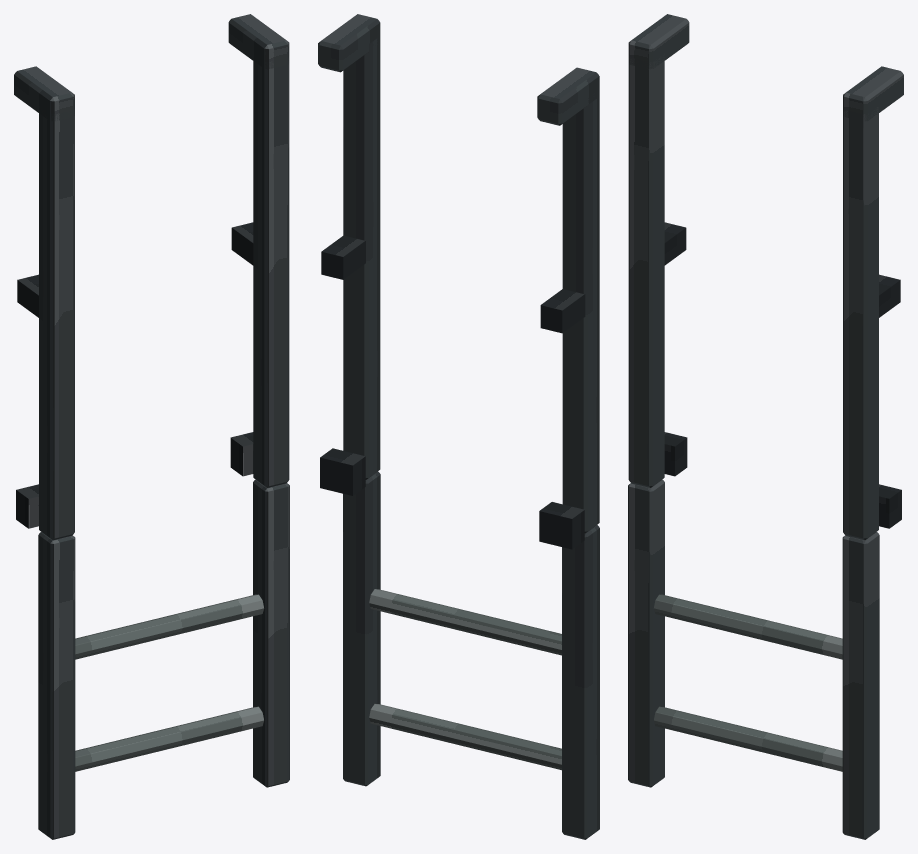
File: sewer_ladder_top.glb
The picture shows the model from 3 angles, left to right: view 1: azimuth 30°, elevation 25°; view 2: azimuth 150°, elevation 25°; view 3: azimuth 330°, elevation 25°; orthographic projection. The views are drawn at different scales.
Visible parts, largest first — view 1: HoopUpR, HoopUpL, RailL, RailR, Rung01, Rung00, HoopTopR, HoopTopL, HoopFootR, HoopFootL, HoopMidR, HoopMidL; view 2: HoopUpR, HoopUpL, RailL, RailR, Rung00, Rung01, HoopTopL, HoopTopR, HoopFootL, HoopFootR, HoopMidL, HoopMidR; view 3: HoopUpL, HoopUpR, RailR, RailL, Rung01, Rung00, HoopTopL, HoopTopR, HoopFootL, HoopFootR, HoopMidL, HoopMidR.
Boxes of the visible parts, box(x1,y1,x2,y2) form: HoopUpR: box(253, 57, 289, 487); HoopUpL: box(39, 109, 74, 540); RailL: box(38, 532, 75, 839); RailR: box(253, 479, 289, 787); Rung01: box(75, 594, 263, 659); Rung00: box(75, 706, 263, 771); HoopTopR: box(228, 14, 289, 69); HoopTopL: box(14, 66, 74, 121); HoopFootR: box(230, 432, 253, 476); HoopFootL: box(16, 484, 38, 528); HoopMidR: box(231, 222, 253, 265); HoopMidL: box(17, 274, 38, 317); HoopUpR: box(343, 36, 380, 479); HoopUpL: box(562, 92, 599, 533); RailL: box(562, 525, 599, 839); RailR: box(343, 471, 380, 786); Rung00: box(369, 704, 561, 770); Rung01: box(369, 589, 561, 655); HoopTopL: box(537, 67, 599, 125); HoopTopR: box(318, 14, 380, 72); HoopFootL: box(539, 502, 584, 549); HoopFootR: box(320, 448, 365, 495); HoopMidL: box(540, 288, 585, 333); HoopMidR: box(321, 235, 365, 279); HoopUpL: box(628, 54, 664, 487); HoopUpR: box(843, 107, 878, 540); RailR: box(842, 532, 879, 839); RailL: box(628, 479, 664, 787); Rung01: box(654, 594, 842, 659); Rung00: box(654, 706, 842, 771); HoopTopL: box(628, 14, 689, 69); HoopTopR: box(843, 66, 903, 121); HoopFootL: box(664, 432, 687, 476); HoopFootR: box(879, 484, 901, 528); HoopMidL: box(664, 222, 686, 265); HoopMidR: box(879, 274, 900, 317).
Bounding box in the file's own units: 0.69 × 1.98 × 0.19.
Materials: 2 (2 with a texture image).
